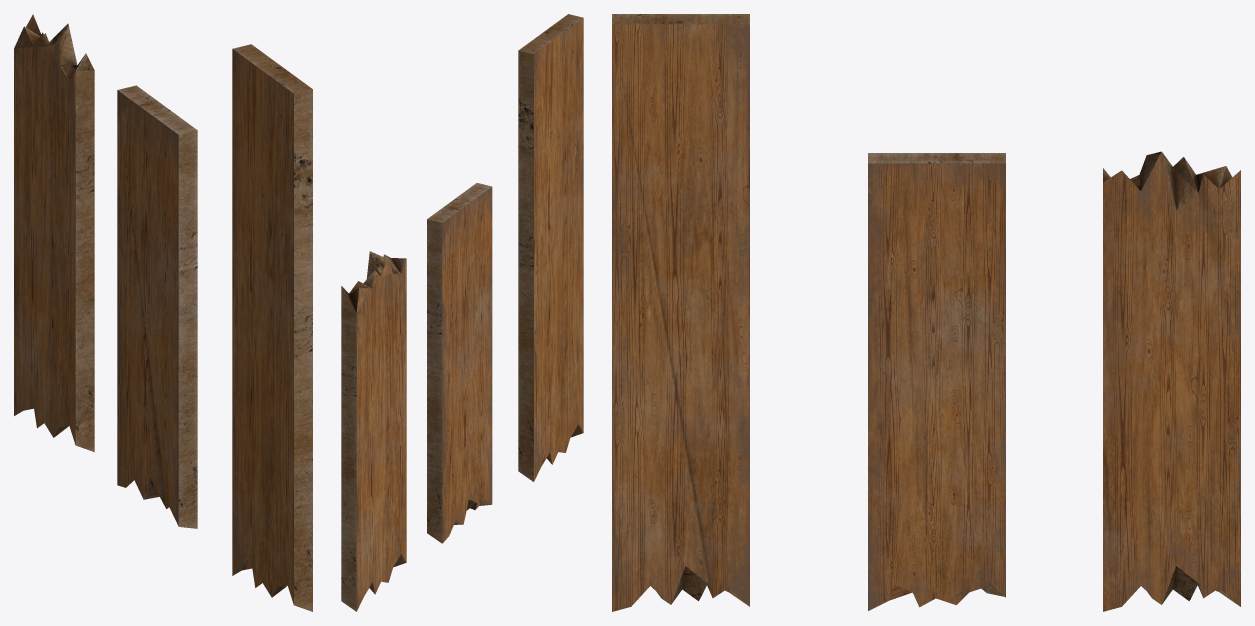
Rendered from broken_wooden_planks__game_ready.glb.
3 views of the same model, side by side, from view 1: azimuth 30°, elevation 25°; view 2: azimuth 150°, elevation 25°; view 3: azimuth 270°, elevation 25° (orthographic). The views are drawn at different scales.
Parts seen in each view (by area): view 1: Cube.003, Cube.009, Cube.004; view 2: Cube.003, Cube.009, Cube.004; view 3: Cube.003, Cube.009, Cube.004.
Part boxes in pixels (x1=…): Cube.003: x1=232, y1=44, x2=312, y2=611; Cube.009: x1=117, y1=85, x2=197, y2=528; Cube.004: x1=14, y1=14, x2=94, y2=451; Cube.003: x1=518, y1=14, x2=583, y2=481; Cube.009: x1=427, y1=183, x2=492, y2=543; Cube.004: x1=341, y1=251, x2=406, y2=611; Cube.003: x1=612, y1=14, x2=749, y2=611; Cube.009: x1=868, y1=153, x2=1005, y2=610; Cube.004: x1=1103, y1=151, x2=1240, y2=611.
Size of the model in its own units: 13.64 by 341 by 328.
Materials: 1 (1 with a texture image).
